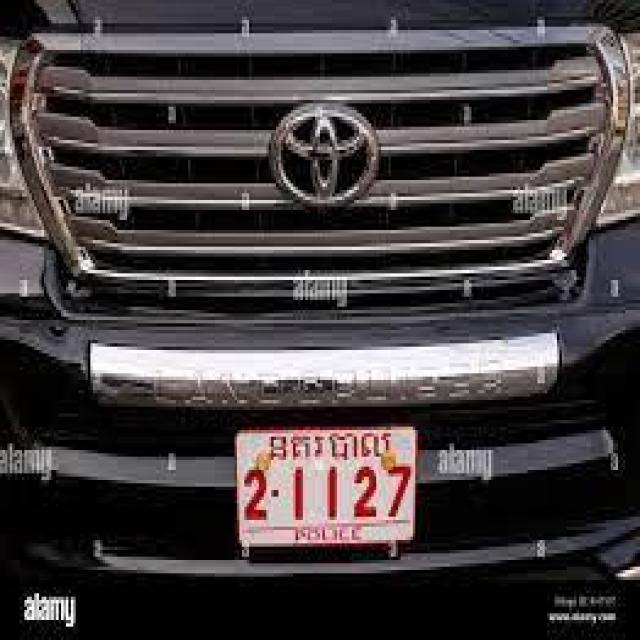Police: (269, 433, 391, 461)
